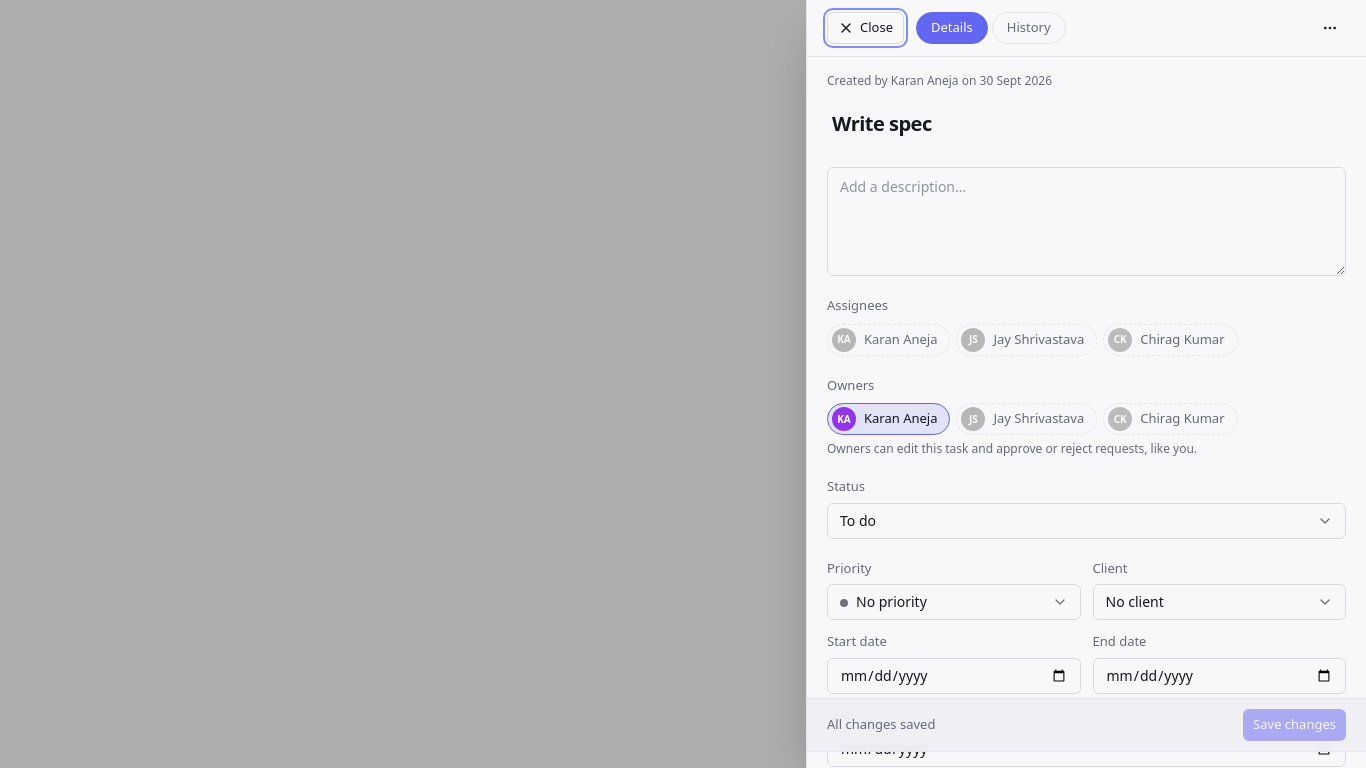
it: task panel: editing › saves only the fields an owner changed, with the version they started from
Check: the text "All changes saved" is shown, box left=827, top=715, right=935, bottom=735
Replace the text in the 1st text box with "Write the spec" at (1086, 124), box left=827, top=101, right=1346, bottom=147
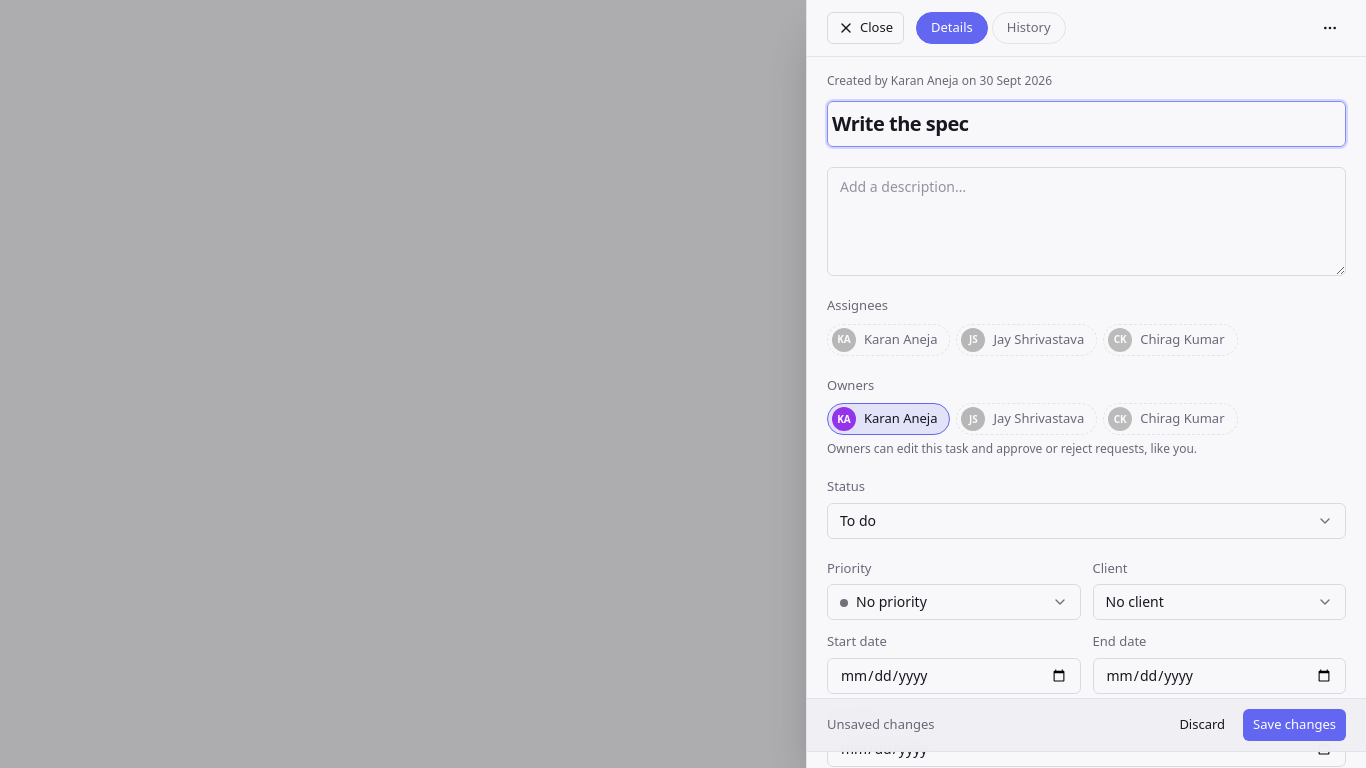
Check: the text "Unsaved changes" is shown, box left=827, top=715, right=934, bottom=735
Click the button "Save changes" at (1295, 725), box left=1243, top=709, right=1346, bottom=741
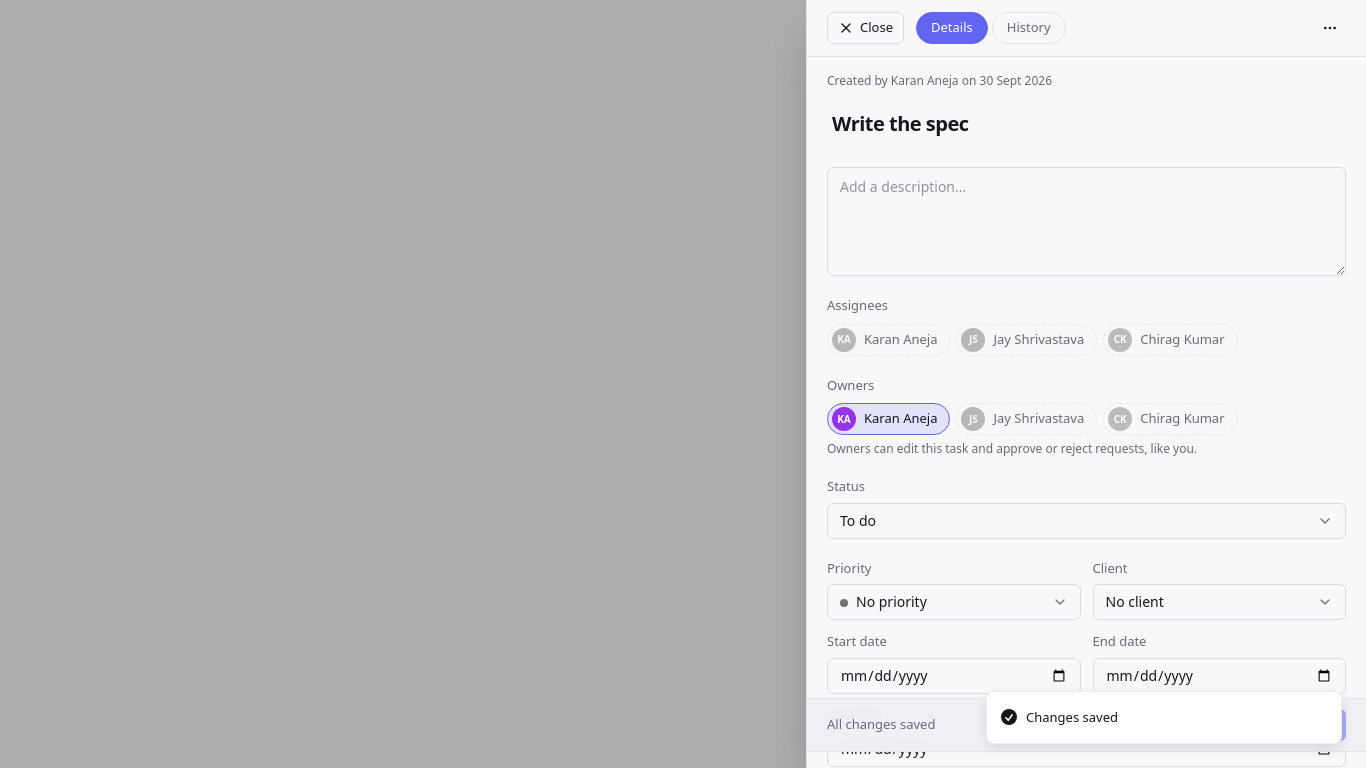
Check: the text "Changes saved" is shown, box left=1026, top=708, right=1118, bottom=727
Check: the text "All changes saved" is shown, box left=827, top=715, right=935, bottom=735
